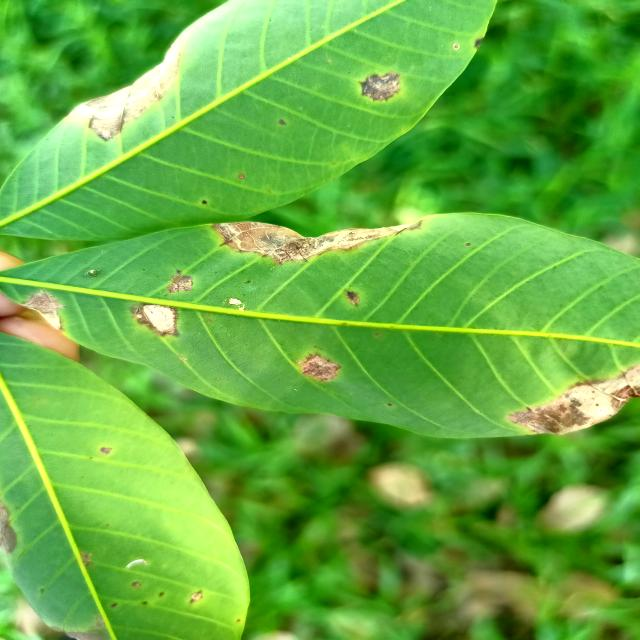Colletotrichum: (168, 276, 193, 294), (239, 174, 245, 179), (202, 200, 207, 204), (387, 403, 392, 406), (466, 243, 470, 246)
Leaf-Blight: (68, 38, 181, 140), (507, 365, 640, 434), (210, 222, 420, 262), (20, 290, 64, 332), (298, 354, 338, 382), (143, 304, 175, 334), (0, 504, 17, 553)
